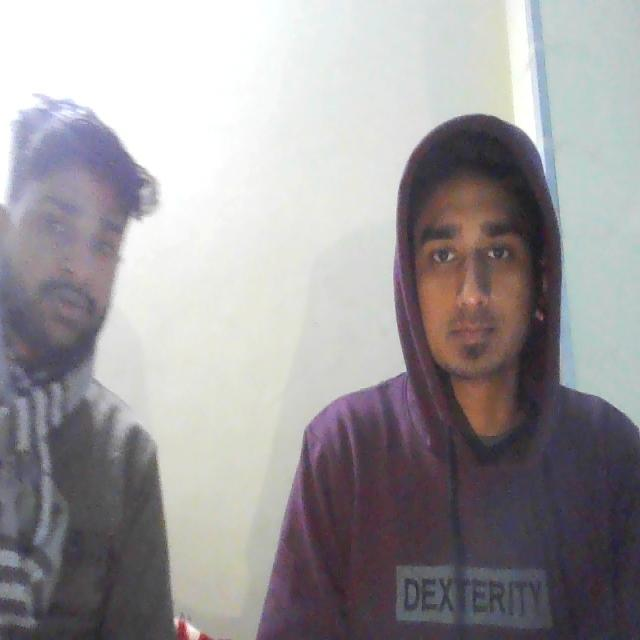real: (397, 111, 555, 409), (0, 100, 140, 364)
